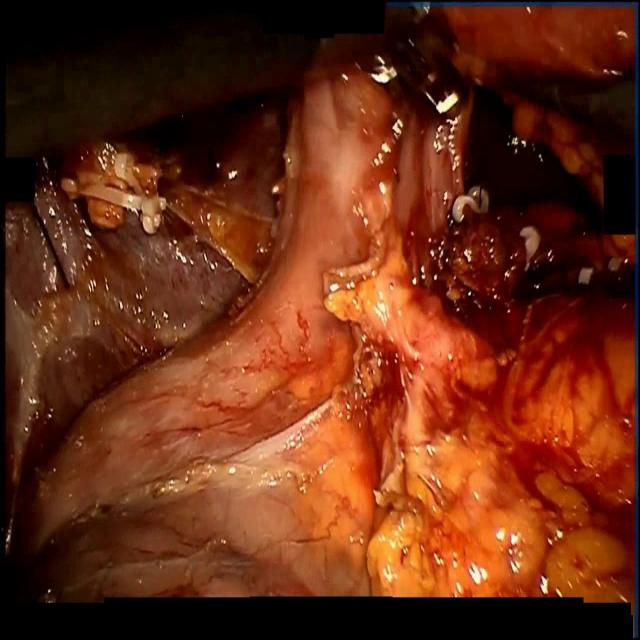surgical-area: (0, 1, 332, 612), (317, 2, 636, 617), (0, 0, 388, 42)
surgical-tool: (354, 2, 470, 120)
